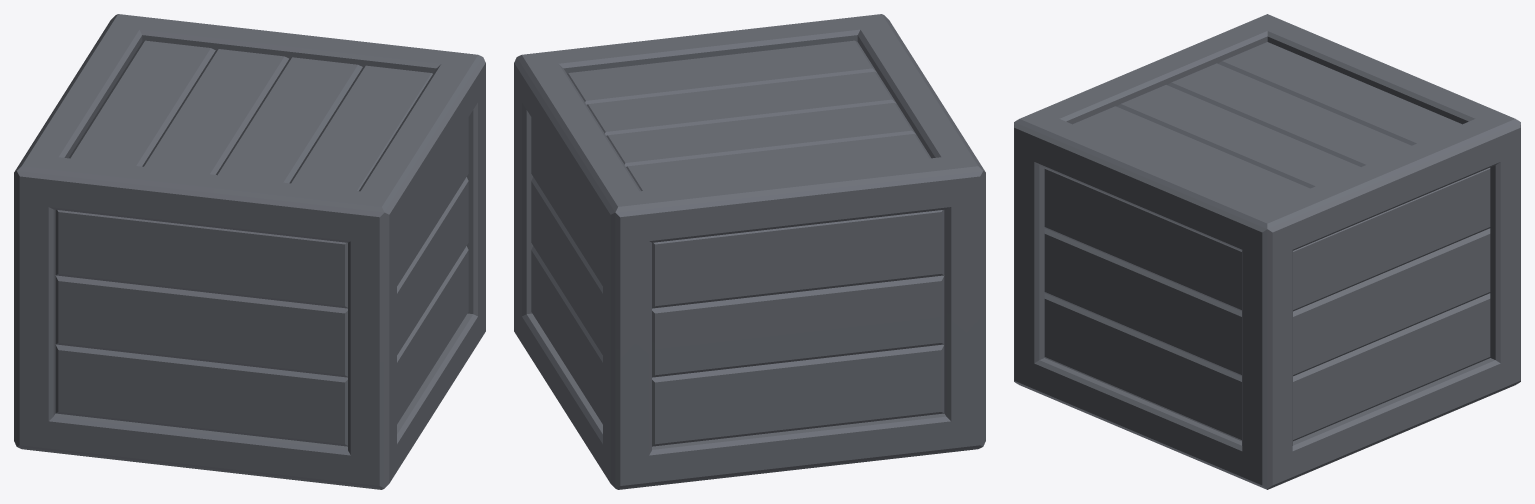
The model's file is cratebox_a.gltf.
The picture shows the model from 3 angles, left to right: view 1: azimuth 30°, elevation 25°; view 2: azimuth 150°, elevation 25°; view 3: azimuth 270°, elevation 25°; orthographic projection. The views are drawn at different scales.
Visible parts, largest first — view 1: cratebox_a001; view 2: cratebox_a001; view 3: cratebox_a001.
Part boxes in pixels (box(x1,y1,x2,y2)): cratebox_a001: box(14, 14, 485, 489); cratebox_a001: box(514, 14, 985, 489); cratebox_a001: box(1014, 14, 1520, 489).
Bounding box in the file's own units: 1.41 × 0.82 × 1.41.
Materials: 1 (1 with a texture image).
